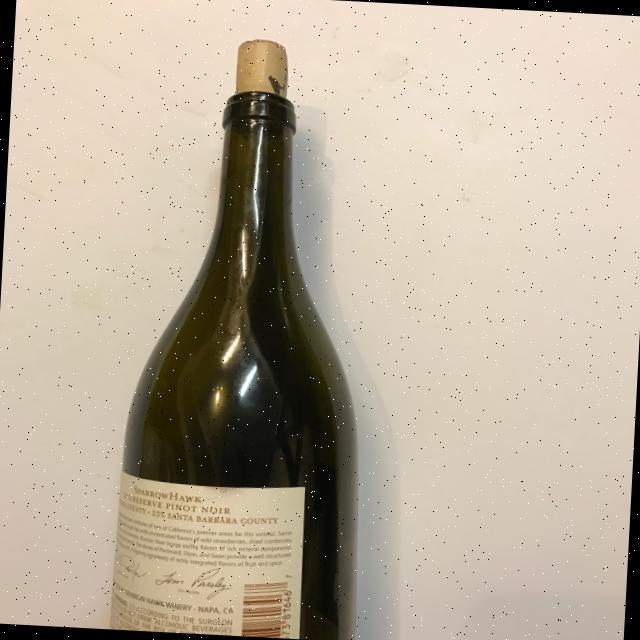glass: (115, 37, 399, 640)
